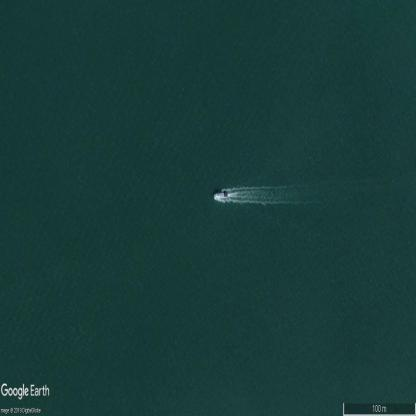ship: (215, 192, 227, 199)
